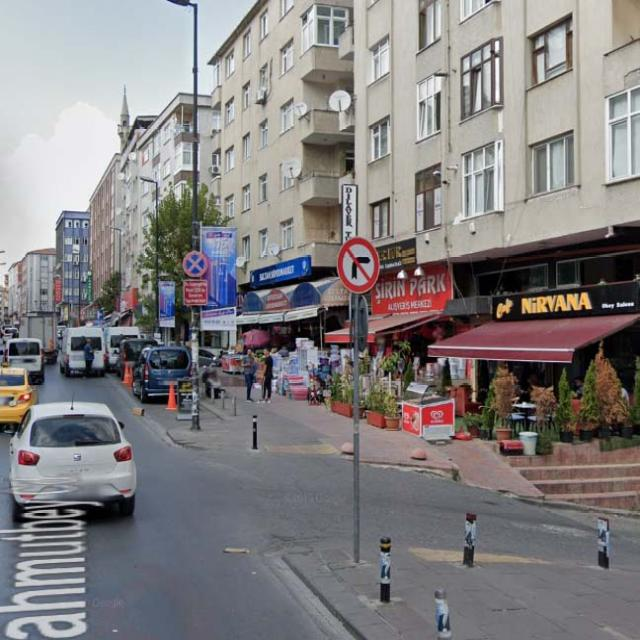sagadonulmez: (338, 238, 379, 292)
